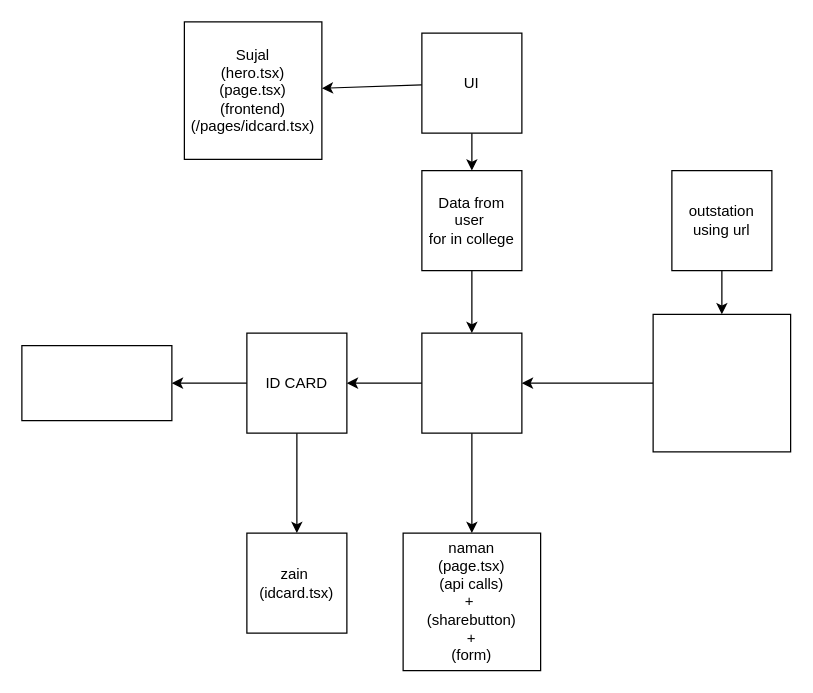
This 813x693 diagram has some shape labels left out. Here are the shapes that lost their labels. From the top down, the box of each, then its label:
(21, 344, 172, 421): Shown to the user
(421, 332, 522, 433): Data recieved
(652, 313, 791, 452): use param to identify registration id from url and then fetch data from backend
